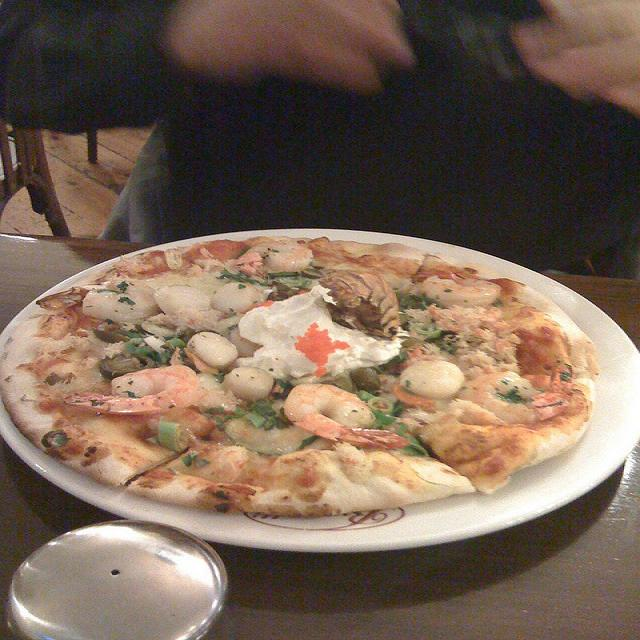chair: (0, 118, 79, 236)
dining table: (0, 224, 639, 633)
